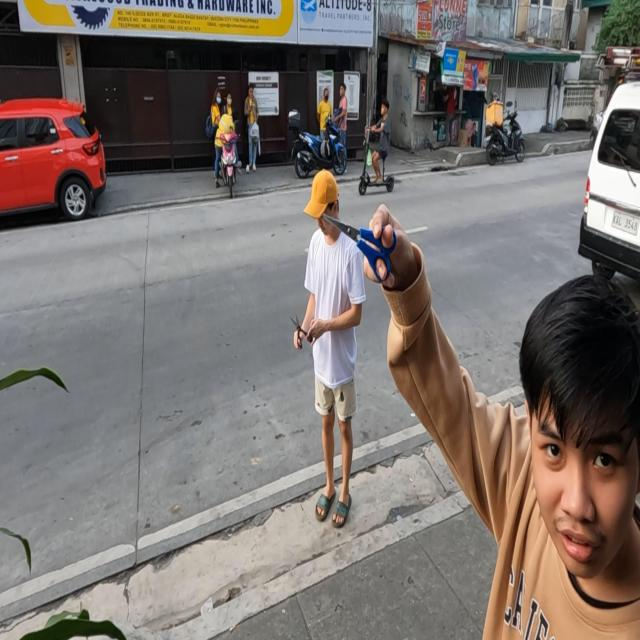scissor: (323, 213, 397, 282), (290, 313, 313, 352)
